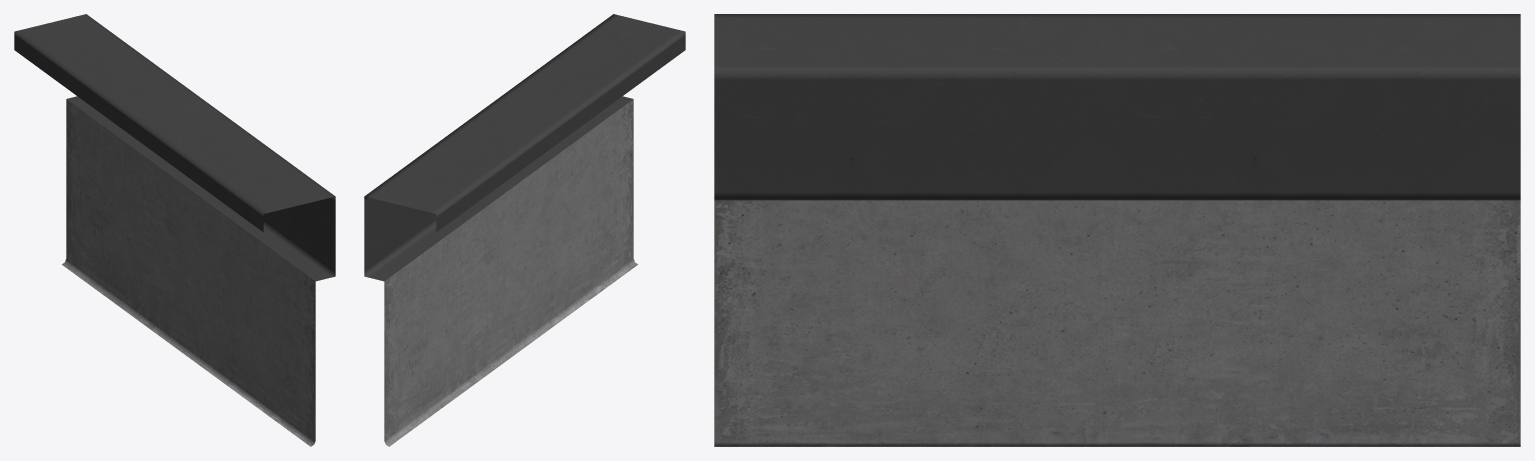
Rendered from SM_walkway_trim_a_100.fbx.
3 renders of one model, left to right at view 1: azimuth 30°, elevation 25°; view 2: azimuth 150°, elevation 25°; view 3: azimuth 270°, elevation 25°, orthographic. The views are drawn at different scales.
Visible parts, largest first — view 1: polySurface828, polySurface829; view 2: polySurface828, polySurface829; view 3: polySurface828, polySurface829.
Boxes of the visible parts, x1,y1,x2,y2 form: polySurface828: (62, 99, 315, 446); polySurface829: (14, 14, 335, 281); polySurface828: (384, 99, 637, 446); polySurface829: (364, 14, 685, 281); polySurface828: (714, 200, 1520, 446); polySurface829: (714, 14, 1520, 200).
Bounding box in the file's own units: 0.3337 × 1.08 × 2.
